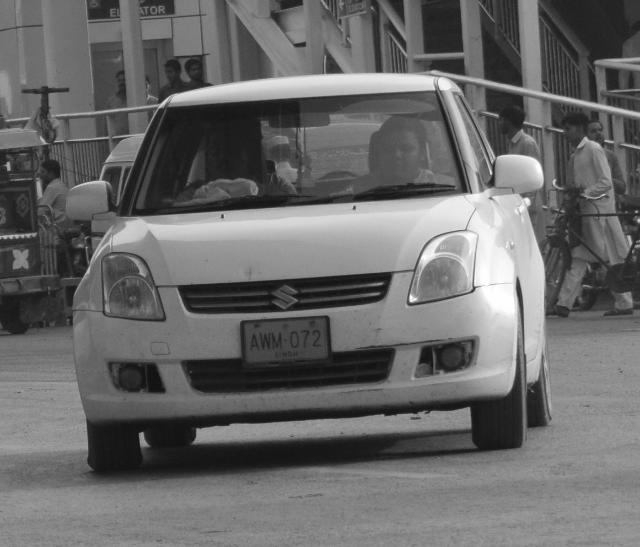Number: (251, 326, 325, 352)
